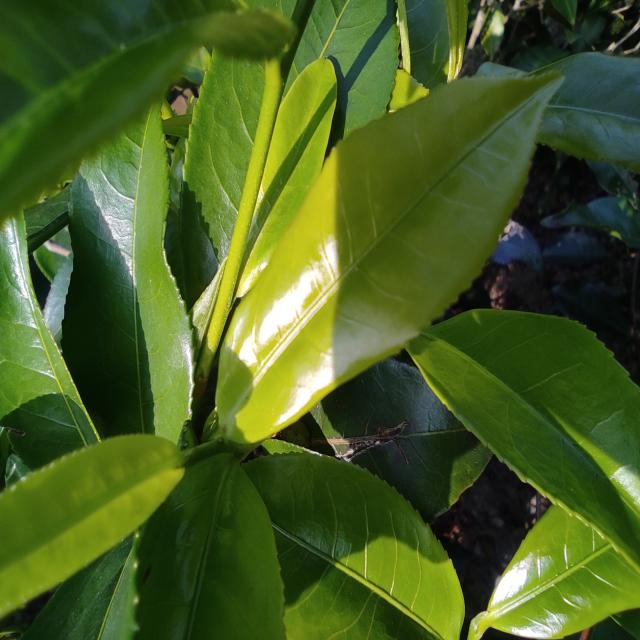Category B(2-4 days): (197, 30, 571, 452)
